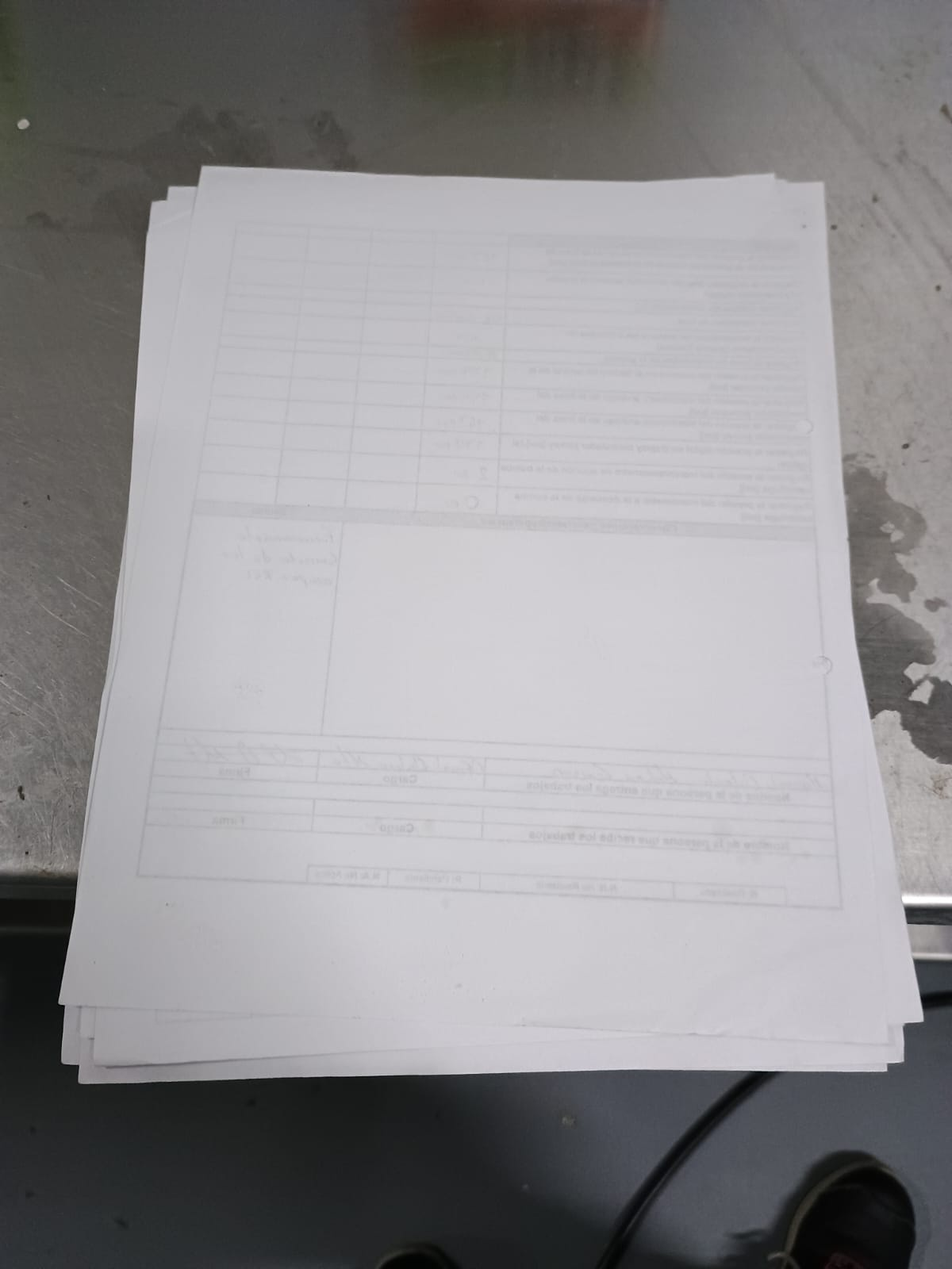Papel: (57, 161, 926, 1087)
